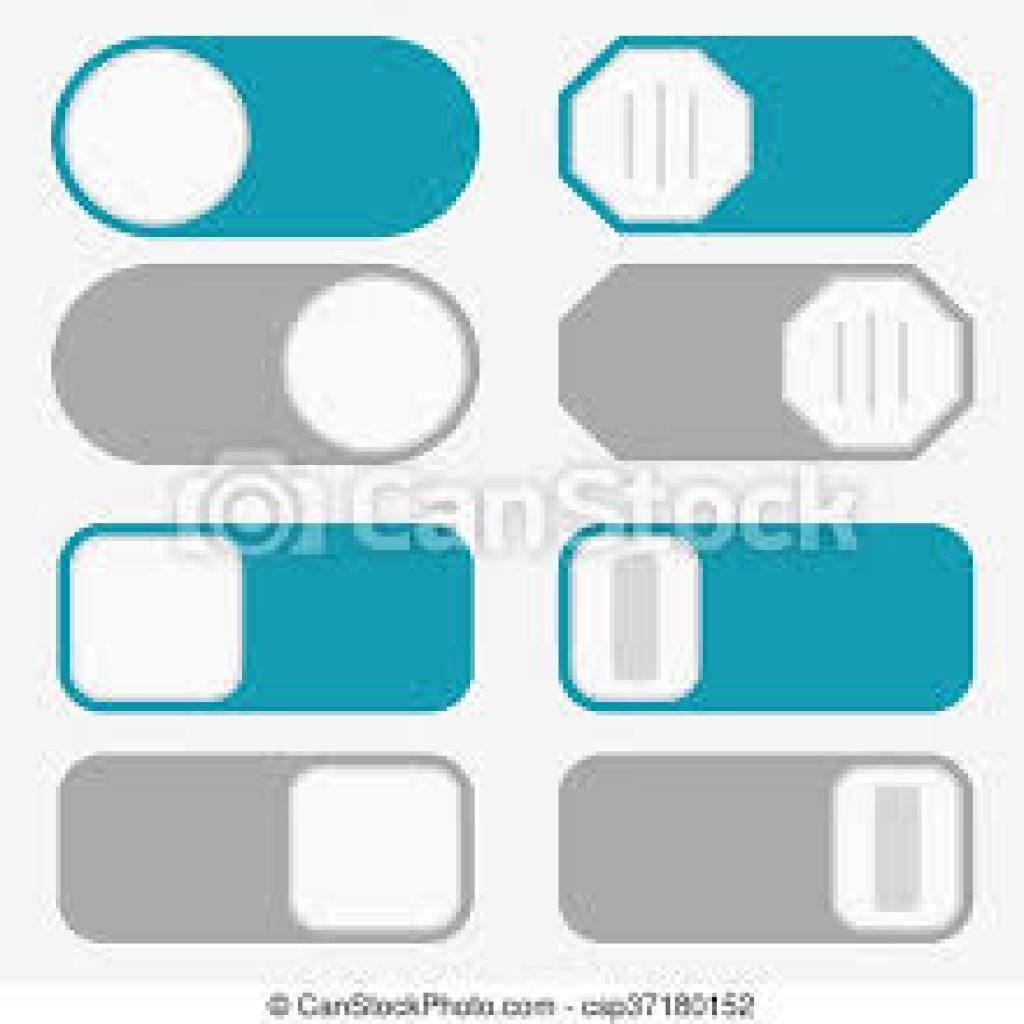switch: (37, 29, 496, 249), (48, 259, 486, 475), (547, 740, 984, 955), (551, 34, 988, 246), (549, 259, 987, 470), (39, 751, 489, 955), (538, 521, 987, 725), (51, 517, 481, 727)
